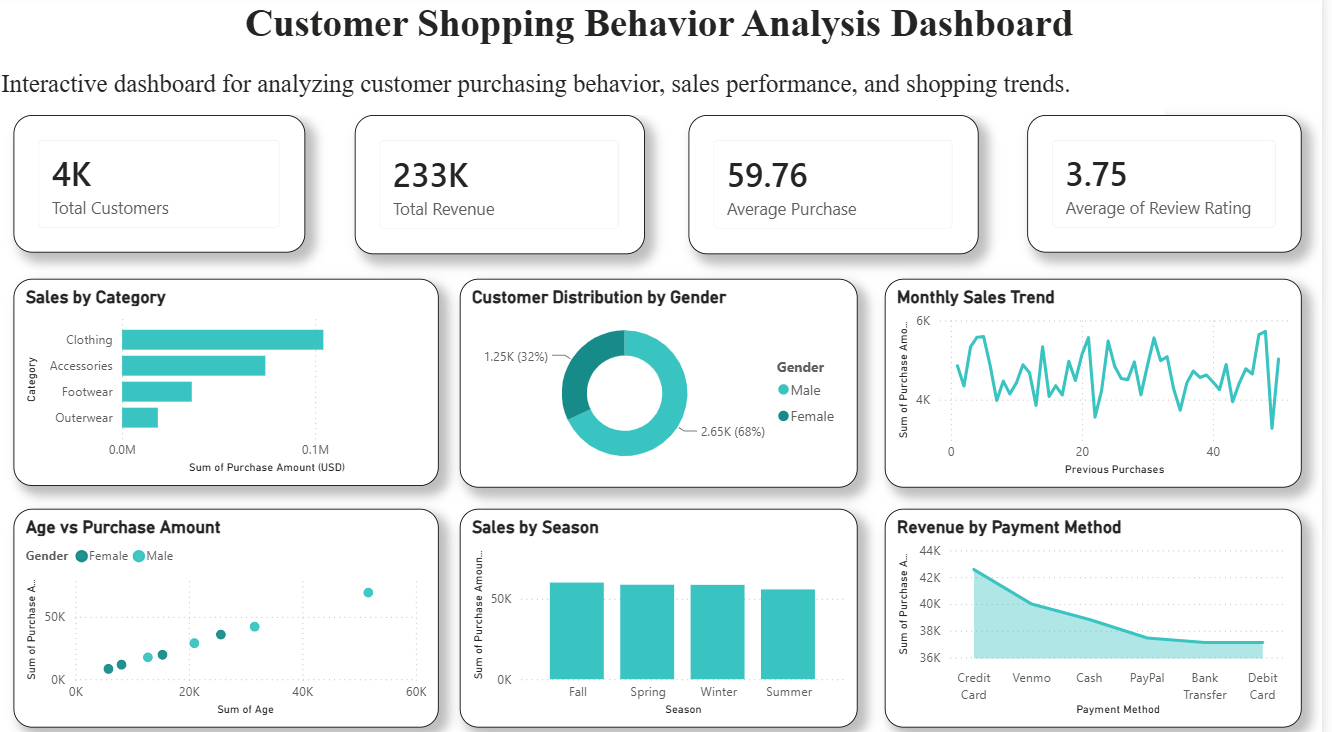

What the dashboard file says about the page in this screenshot:
{"tool":"powerbi","page":{"name":"Page 1","canvas":[1280,720],"ordinal":0},"visuals":[{"type":"cardVisual","fields":{"Data":["shopping_trends.Total Customers"]},"box":[16.5,115.3,281.3,133.1],"z":0},{"type":"cardVisual","fields":{"Data":["shopping_trends.Total Revenue"]},"box":[345.8,115.3,279.9,134.5],"z":1000},{"type":"cardVisual","fields":{"Data":["shopping_trends.Average Purchase"]},"box":[668.3,115.3,279.9,134.5],"z":2000},{"type":"clusteredBarChart","title":"Sales by Category","fields":{"Category":["shopping_trends.Category"],"Y":["Sum(shopping_trends.Purchase Amount (USD))"]},"box":[16.5,274.4,410.3,200.3],"z":2001},{"type":"donutChart","title":" Customer Distribution by Gender","fields":{"Category":["shopping_trends.Gender"],"Y":["CountNonNull(shopping_trends.Customer ID)"]},"box":[447.3,274.4,384.2,201.7],"z":2003},{"type":"clusteredColumnChart","title":"Sales by Season","fields":{"Category":["shopping_trends.Season"],"Y":["Sum(shopping_trends.Purchase Amount (USD))"]},"box":[447.3,495.4,384.2,211.3],"z":2004},{"type":"cardVisual","fields":{"Data":["Avg(shopping_trends.Review Rating)"]},"box":[994.9,115.3,264.8,133.1],"z":2005},{"type":"lineChart","title":"Monthly Sales Trend","fields":{"Category":["shopping_trends.Previous Purchases"],"Y":["Sum(shopping_trends.Purchase Amount (USD))"]},"box":[857.6,274.4,402.1,201.7],"z":2006},{"type":"scatterChart","title":"Age vs Purchase Amount","fields":{"X":["Sum(shopping_trends.Age)"],"Y":["Sum(shopping_trends.Purchase Amount (USD))"],"Category":["shopping_trends.Size"],"Series":["shopping_trends.Gender"]},"box":[16.5,495.4,410.3,211.3],"z":2007},{"type":"areaChart","title":"Revenue by Payment Method","fields":{"Category":["shopping_trends.Payment Method"],"Y":["Sum(shopping_trends.Purchase Amount (USD))"]},"box":[857.6,495.4,402.1,211.3],"z":2008},{"type":"textbox","box":[170,0,940,50.8],"z":2009},{"type":"textbox","box":[0,60.4,1128,54.9],"z":2010}]}

Visuals, with their boxes in screenshot pixels (x1, y1, x2, y2), scaled from the page's 1280x720 canvas onto the 1332x732 screenshot:
cardVisual - shopping_trends.Total Customers: Rect(17, 117, 310, 253)
cardVisual - shopping_trends.Total Revenue: Rect(360, 117, 651, 254)
cardVisual - shopping_trends.Average Purchase: Rect(695, 117, 987, 254)
"Sales by Category" clusteredBarChart: Rect(17, 279, 444, 483)
" Customer Distribution by Gender" donutChart: Rect(465, 279, 865, 484)
"Sales by Season" clusteredColumnChart: Rect(465, 504, 865, 718)
cardVisual - Avg(shopping_trends.Review Rating): Rect(1035, 117, 1311, 253)
"Monthly Sales Trend" lineChart: Rect(892, 279, 1311, 484)
"Age vs Purchase Amount" scatterChart: Rect(17, 504, 444, 718)
"Revenue by Payment Method" areaChart: Rect(892, 504, 1311, 718)
textbox: Rect(177, 0, 1155, 52)
textbox: Rect(0, 61, 1174, 117)
